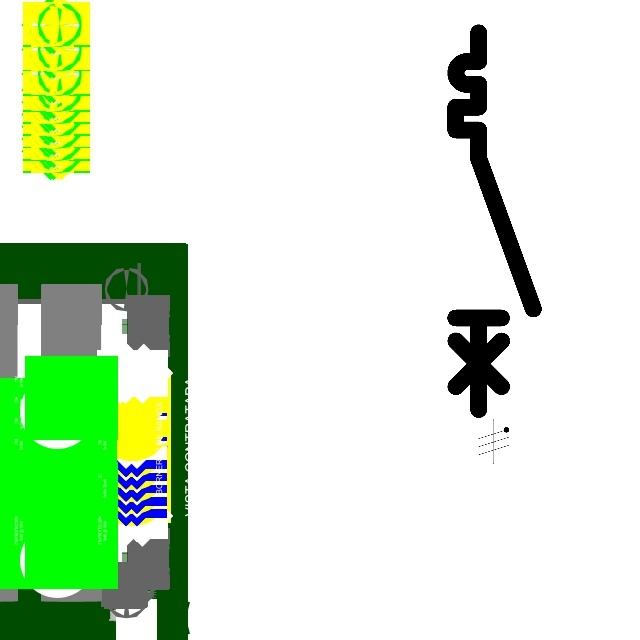interruptor_termomagnetico: (446, 23, 543, 419)
